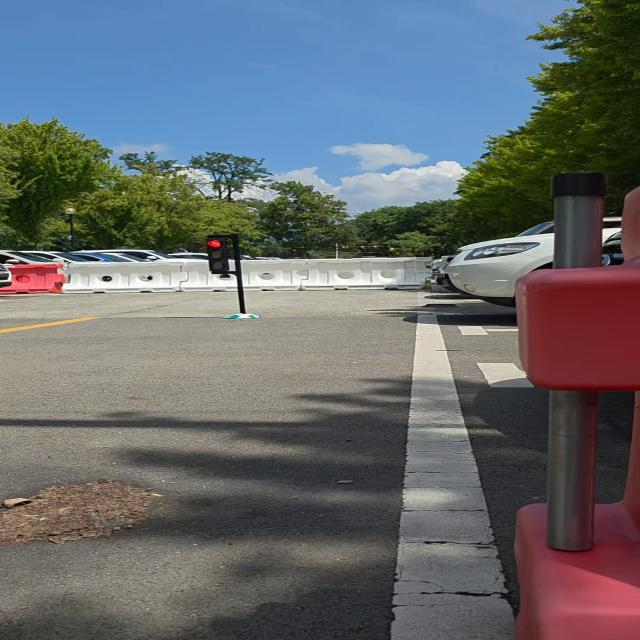red: (202, 237, 238, 272)
